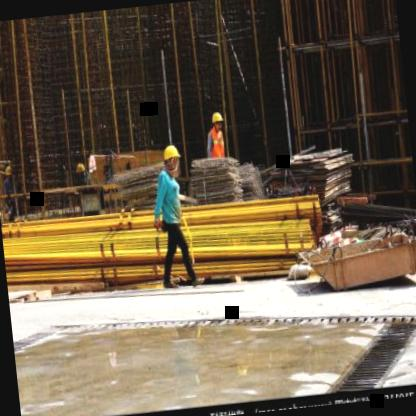helmet: (162, 141, 184, 174), (210, 108, 226, 134), (73, 159, 88, 182), (2, 160, 14, 184)
